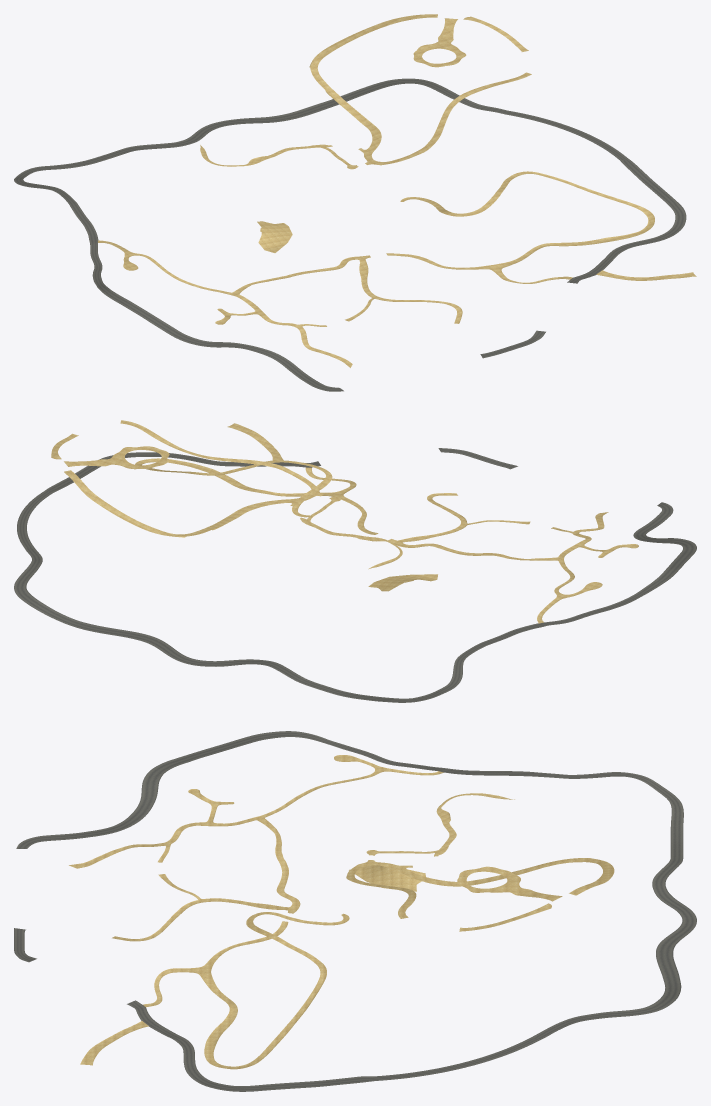
The model's file is smoothed roads.glb.
The picture shows the model from 3 angles, top to bottom: view 1: azimuth 30°, elevation 25°; view 2: azimuth 150°, elevation 25°; view 3: azimuth 270°, elevation 25°; orthographic projection. The views are drawn at different scales.
Visible parts, largest first — view 1: Object_28.001, Object_31.001; view 2: Object_28.001, Object_31.001; view 3: Object_28.001, Object_31.001.
Part boxes in pixels (bbox=[...]): Object_28.001: bbox=[98, 14, 696, 367]; Object_31.001: bbox=[14, 78, 686, 391]; Object_28.001: bbox=[51, 420, 638, 623]; Object_31.001: bbox=[14, 448, 696, 702]; Object_28.001: bbox=[69, 755, 614, 1069]; Object_31.001: bbox=[14, 731, 696, 1091].
Bounding box in the file's own units: 56.2 × 11.75 × 50.53.
Materials: 2 (2 with a texture image).
